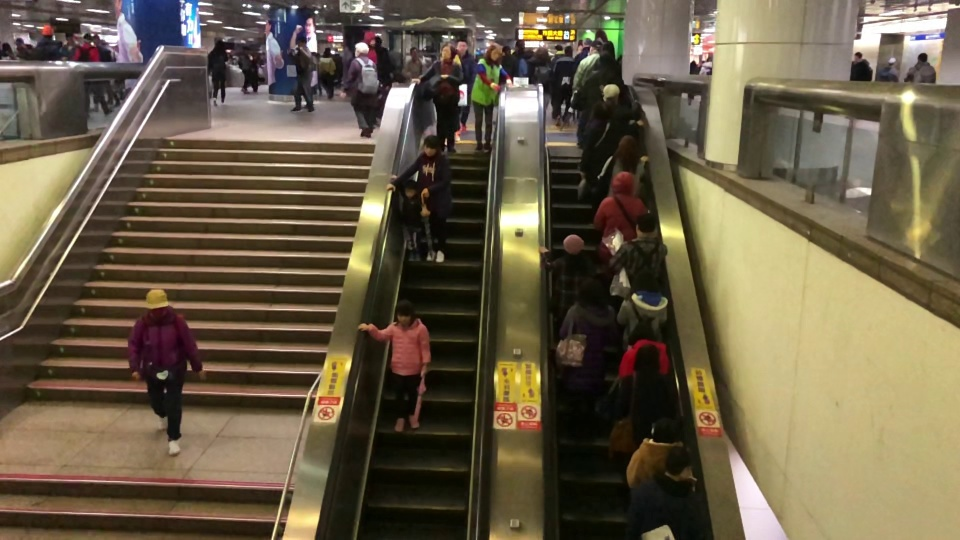person_head: (665, 442, 693, 484), (628, 264, 660, 296), (632, 342, 662, 375), (576, 276, 605, 308), (613, 134, 641, 167), (142, 287, 170, 318), (609, 171, 639, 198), (650, 416, 680, 443), (628, 319, 656, 346), (633, 211, 658, 240), (562, 233, 586, 258), (394, 299, 416, 325), (592, 54, 616, 75), (588, 101, 613, 120), (601, 82, 620, 105), (422, 134, 440, 157), (402, 178, 419, 199), (598, 40, 615, 61), (440, 41, 456, 63), (485, 44, 501, 62), (353, 42, 369, 58), (455, 38, 469, 55), (588, 40, 603, 55), (41, 24, 55, 40), (363, 30, 376, 46), (533, 46, 549, 58), (82, 33, 94, 46), (562, 45, 574, 58), (296, 36, 308, 48), (513, 39, 526, 50), (917, 52, 929, 63), (409, 46, 418, 60), (501, 45, 512, 56), (582, 37, 593, 48), (213, 40, 225, 50), (14, 37, 25, 47), (554, 42, 564, 53), (888, 55, 897, 67), (853, 50, 863, 60), (251, 46, 258, 53), (243, 46, 249, 52)
person_vbox: (127, 287, 206, 456), (356, 299, 431, 432), (553, 277, 615, 436), (387, 135, 452, 263), (630, 443, 712, 540), (608, 345, 679, 439), (411, 43, 462, 153), (579, 102, 644, 188), (593, 171, 648, 272), (538, 232, 595, 328), (610, 212, 668, 306), (624, 417, 693, 489), (470, 41, 512, 153), (615, 269, 670, 353), (340, 42, 379, 138), (73, 32, 114, 118), (596, 135, 650, 199), (619, 321, 670, 381), (573, 55, 626, 110), (390, 174, 423, 262), (453, 38, 477, 142), (287, 36, 315, 113), (525, 45, 554, 110), (552, 45, 575, 126), (572, 40, 603, 92), (585, 41, 620, 85), (207, 39, 228, 107), (903, 52, 938, 84), (31, 25, 63, 59), (508, 39, 533, 78), (401, 46, 425, 81), (236, 45, 250, 96), (850, 51, 873, 82), (575, 36, 594, 72), (877, 56, 900, 83), (360, 32, 379, 64), (250, 46, 262, 96), (500, 44, 518, 76), (13, 37, 35, 60)
